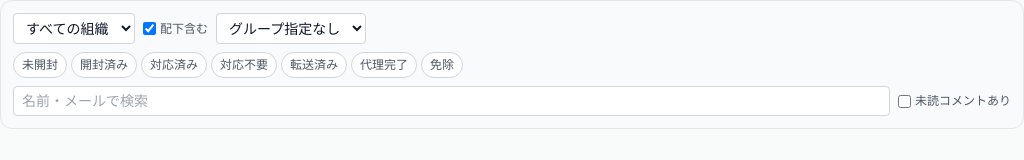
Test: AssigneeListFilters Clear button › clear button appears when search query is entered
The image size is (1024, 160).
Type "tanaka" into the field with placeholder "名前・メールで検索" at (452, 101), box [13,86,890,116]
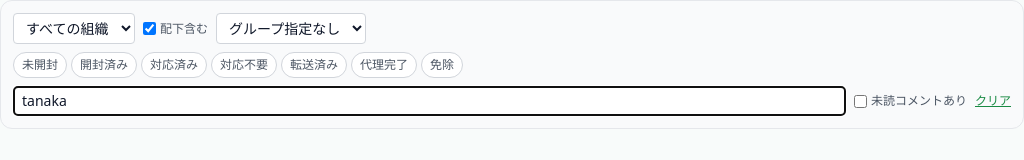
Check: the button "クリア" is shown, box [975,93,1011,109]
